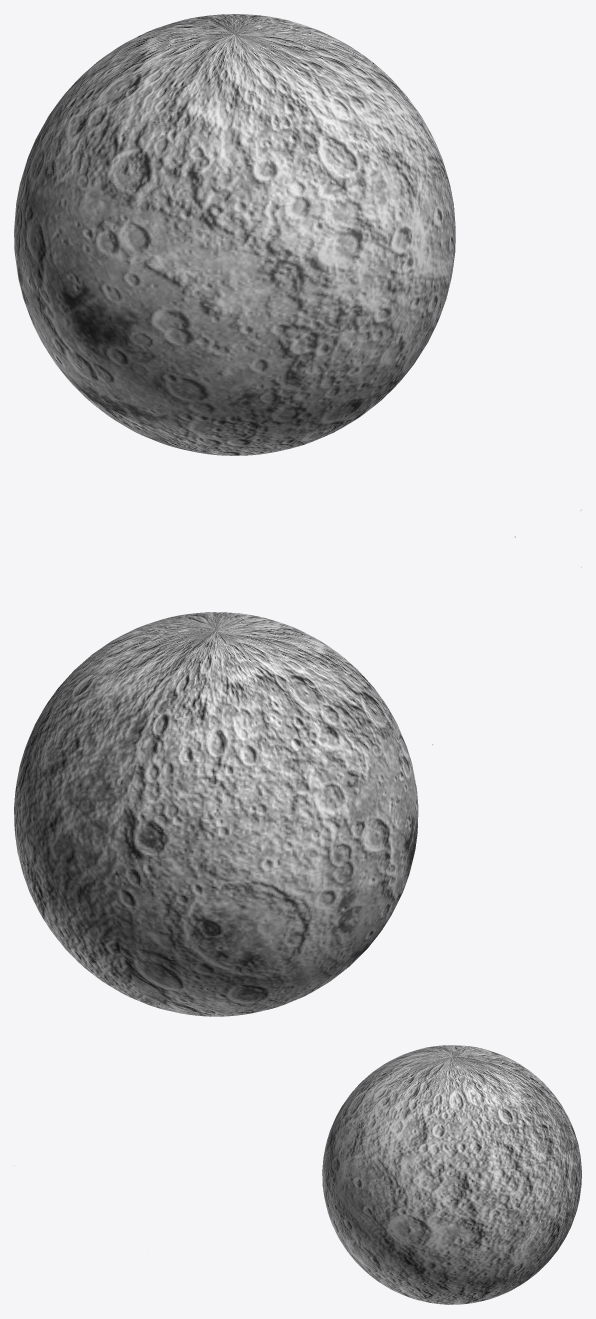
Rendered from Moon.obj.
The picture shows the model from 3 angles, top to bottom: view 1: azimuth 30°, elevation 25°; view 2: azimuth 150°, elevation 25°; view 3: azimuth 270°, elevation 25°; orthographic projection. The views are drawn at different scales.
Visible parts, largest first — view 1: Moon; view 2: Moon; view 3: Moon.
Part boxes in pixels (left/top/right/bottom): Moon: left=14, top=14, right=581, bottom=537; Moon: left=14, top=566, right=581, bottom=1016; Moon: left=14, top=1045, right=581, bottom=1304.
Size of the model in its own units: 522 by 522 by 1142.
3 materials, 1 textured.
